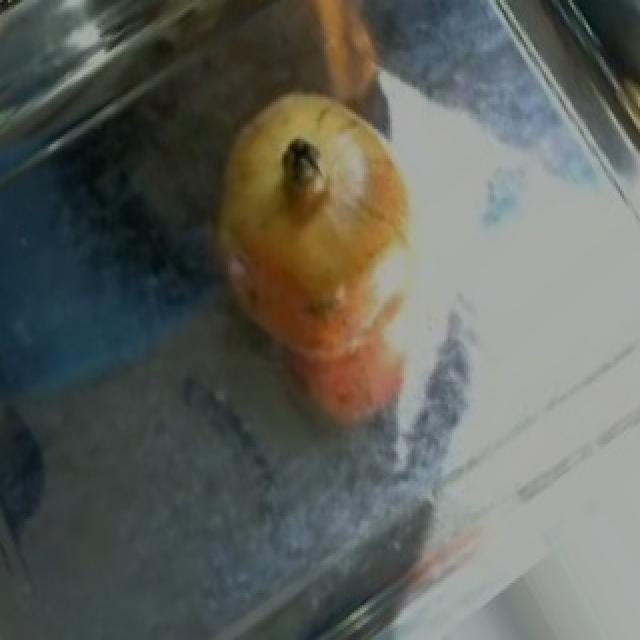fruit: (192, 64, 440, 278)
